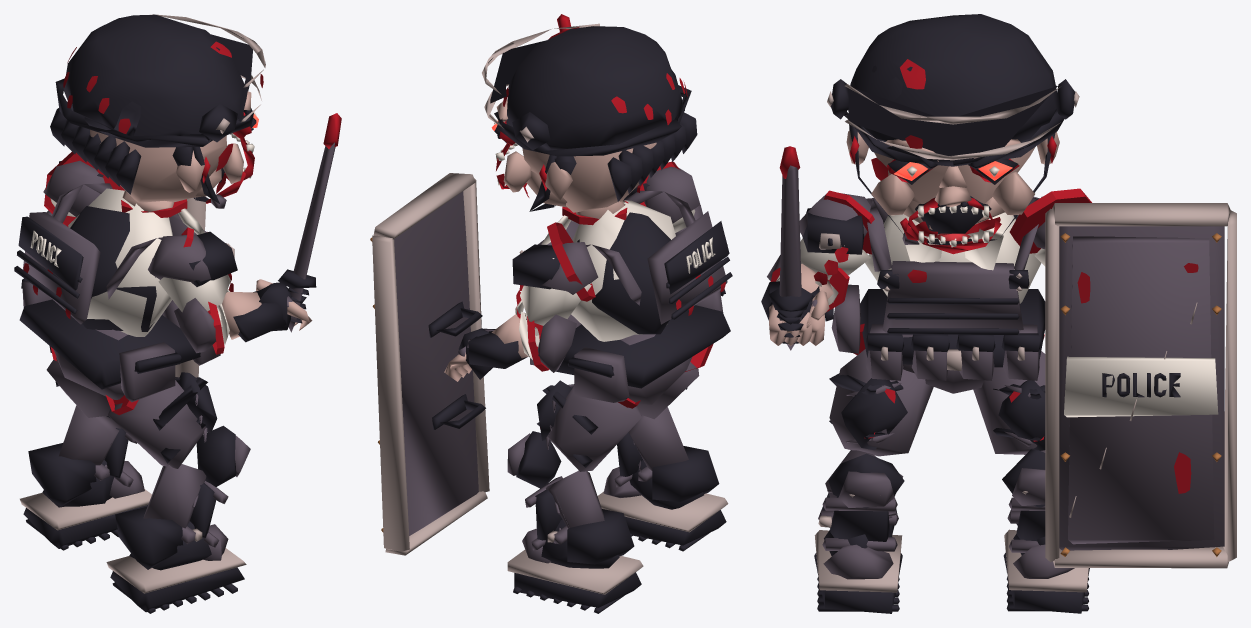
File: inf.riot-cop.lod1.glb
3 views of the same model, side by side, from view 1: azimuth 30°, elevation 25°; view 2: azimuth 150°, elevation 25°; view 3: azimuth 270°, elevation 25° (orthographic). The views are drawn at different scales.
Visible parts, largest first — view 1: head, torso, hip, footR, footL, shinR, legR, armR, handR, foreArmR, shinL, armL (+4 smaller); view 2: handL, head, torso, hip, footL, footR, legL, shinL, armL, foreArmL, shinR, armR (+3 smaller); view 3: handL, head, torso, hip, legR, footR, shinR, handR, legL, footL, armR, shinL (+3 smaller).
Boxes of the visible parts, x1=… form: head: x1=50, y1=14, x2=265, y2=212; torso: x1=14, y1=183, x2=229, y2=336; hip: x1=19, y1=278, x2=220, y2=402; footR: x1=106, y1=506, x2=246, y2=613; footL: x1=20, y1=443, x2=151, y2=550; shinR: x1=143, y1=425, x2=250, y2=547; legR: x1=108, y1=372, x2=217, y2=468; armR: x1=148, y1=231, x2=237, y2=312; handR: x1=256, y1=113, x2=341, y2=332; foreArmR: x1=174, y1=291, x2=286, y2=353; shinL: x1=59, y1=405, x2=136, y2=487; armL: x1=43, y1=160, x2=104, y2=217; handL: x1=370, y1=173, x2=492, y2=555; head: x1=482, y1=23, x2=697, y2=218; torso: x1=519, y1=190, x2=732, y2=341; hip: x1=530, y1=289, x2=730, y2=404; footL: x1=507, y1=509, x2=643, y2=613; footR: x1=597, y1=446, x2=728, y2=551; legL: x1=537, y1=380, x2=641, y2=471; shinL: x1=507, y1=431, x2=604, y2=550; armL: x1=512, y1=242, x2=598, y2=325; foreArmL: x1=467, y1=311, x2=576, y2=372; shinR: x1=614, y1=407, x2=688, y2=487; armR: x1=624, y1=166, x2=700, y2=232; handL: x1=1045, y1=203, x2=1236, y2=568; head: x1=827, y1=14, x2=1079, y2=254; torso: x1=865, y1=196, x2=1041, y2=337; hip: x1=824, y1=284, x2=1045, y2=393; legR: x1=829, y1=349, x2=933, y2=456; footR: x1=814, y1=493, x2=902, y2=613; shinR: x1=822, y1=450, x2=904, y2=551; handR: x1=765, y1=146, x2=829, y2=350; legL: x1=973, y1=351, x2=1045, y2=454; footL: x1=1003, y1=509, x2=1089, y2=613; armR: x1=799, y1=193, x2=870, y2=286; shinL: x1=1002, y1=449, x2=1045, y2=552.
Size of the model in its own units: 0.8017 by 1.8 by 1.35.
